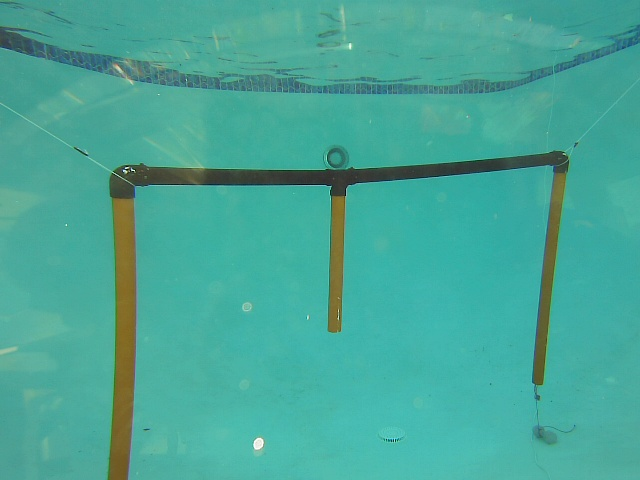Gate: (104, 193, 138, 480), (528, 169, 569, 390), (323, 189, 349, 337)
